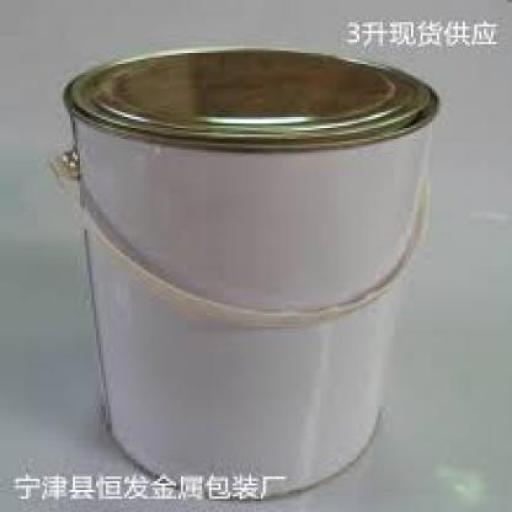metal: (50, 44, 440, 499)
